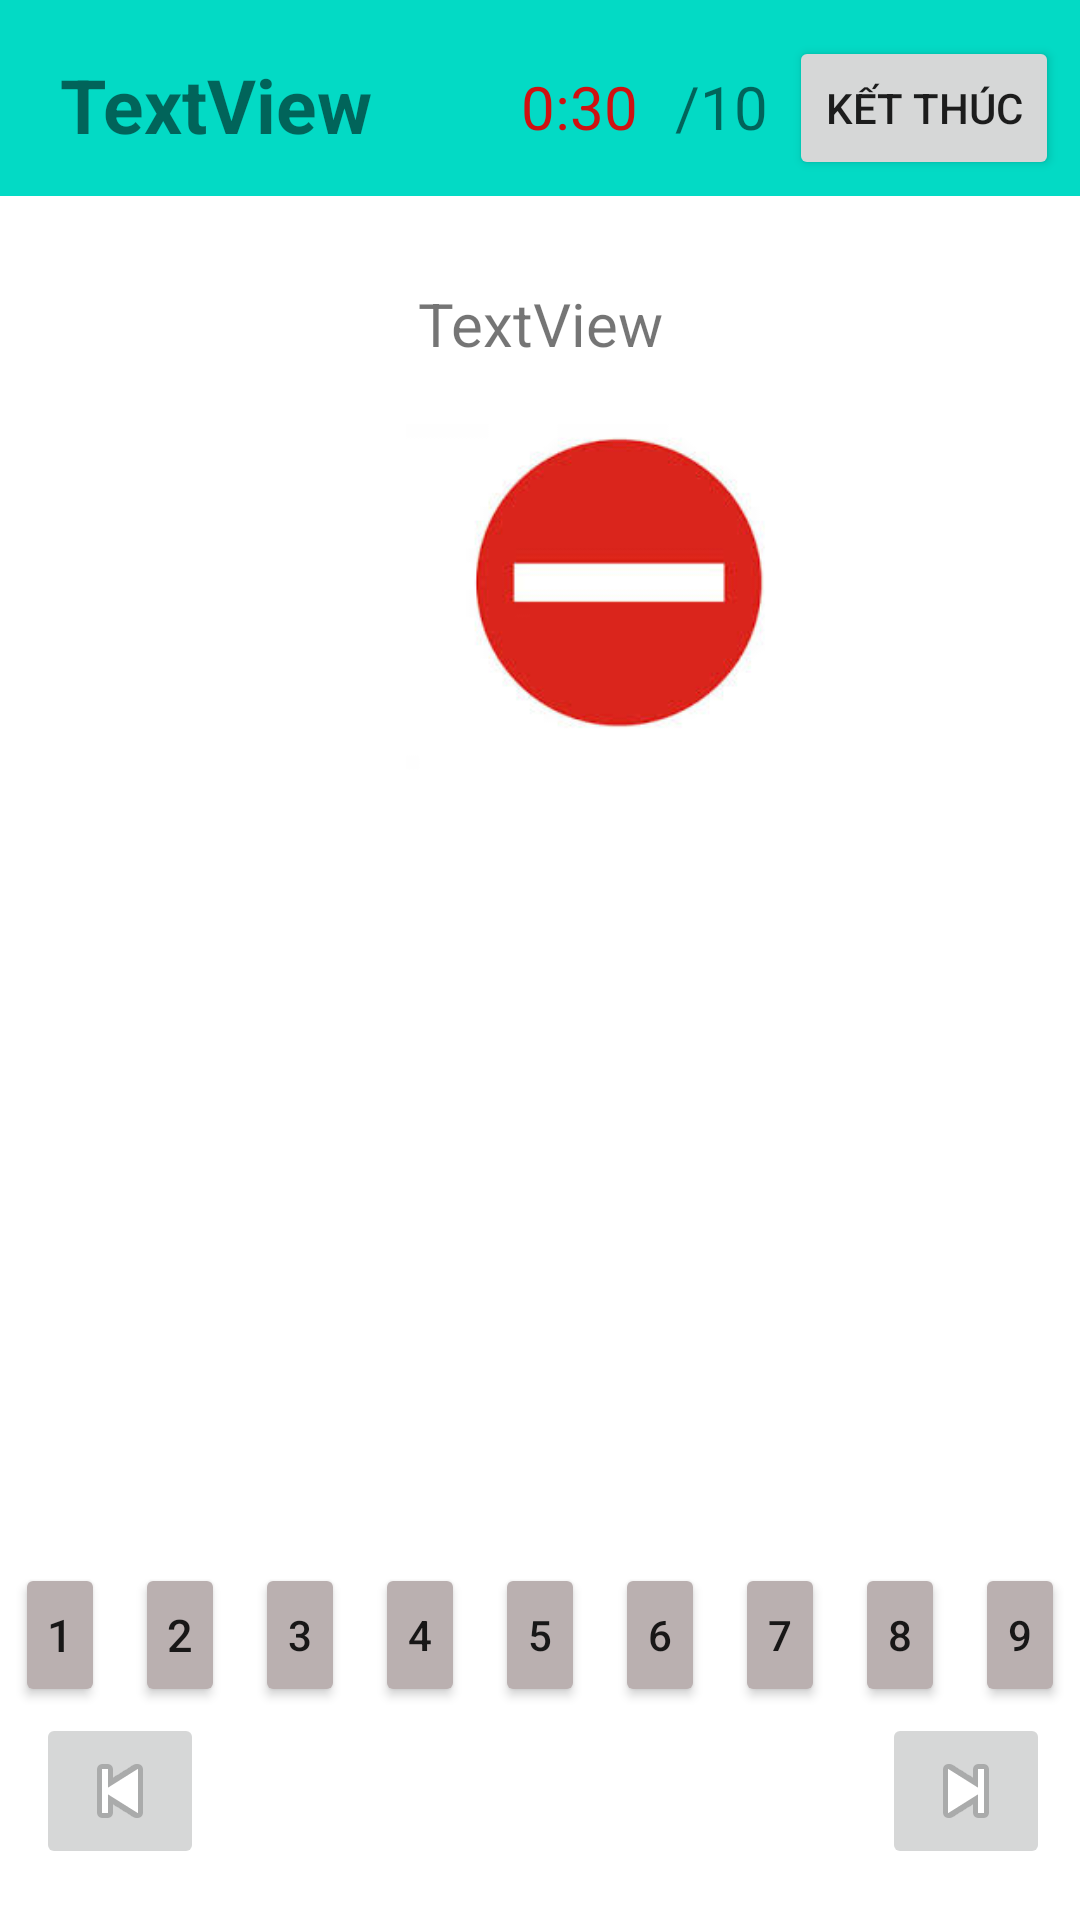

Named icons in this screenshot (1080px×1920px) and their bounding boxes, bbox=[x1, y1, x2, y2]:
biencam: bbox=[476, 438, 763, 727]
next: bbox=[894, 1731, 1038, 1851]
previous: bbox=[48, 1731, 192, 1851]
